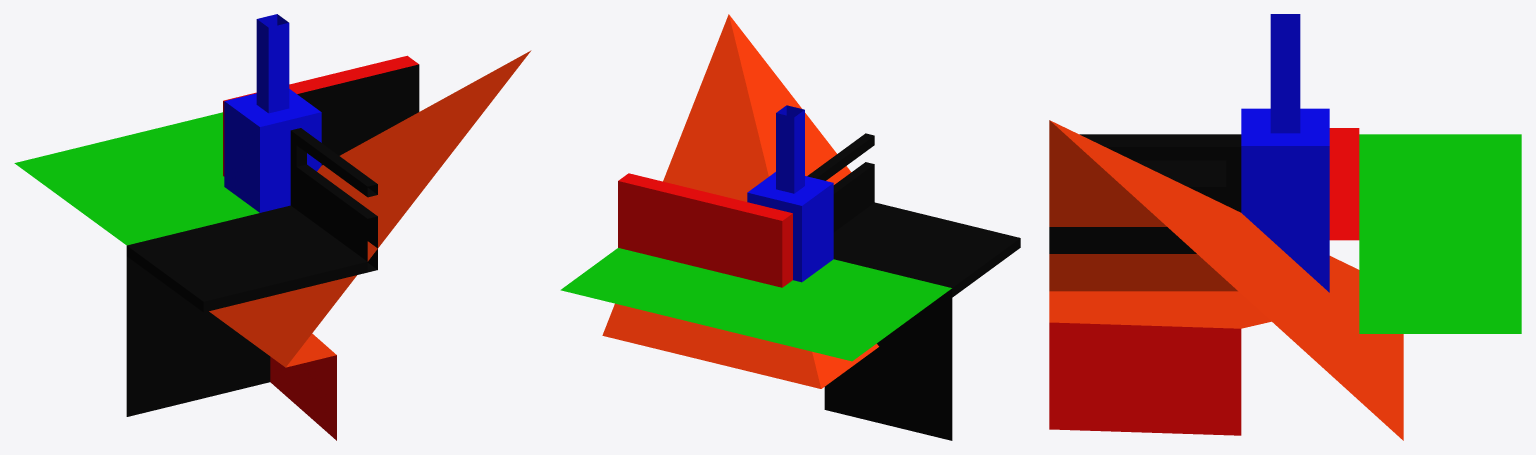
File: None_W_S_E_E_W_P_E_E_BigStrut.fbx
3 renders of one model, left to right at view 1: azimuth 30°, elevation 25°; view 2: azimuth 150°, elevation 25°; view 3: azimuth 270°, elevation 25°, orthographic. The views are drawn at different scales.
Parts seen in each view (by area): view 1: None_W_S_E_E_W_P_E_E_BigStrut; view 2: None_W_S_E_E_W_P_E_E_BigStrut; view 3: None_W_S_E_E_W_P_E_E_BigStrut.
Part boxes in pixels (box(x1,y1,x2,y2)): None_W_S_E_E_W_P_E_E_BigStrut: box(14, 14, 531, 440); None_W_S_E_E_W_P_E_E_BigStrut: box(560, 14, 1020, 440); None_W_S_E_E_W_P_E_E_BigStrut: box(1049, 14, 1521, 440).
Bounding box in the file's own units: 100 × 100 × 100.
